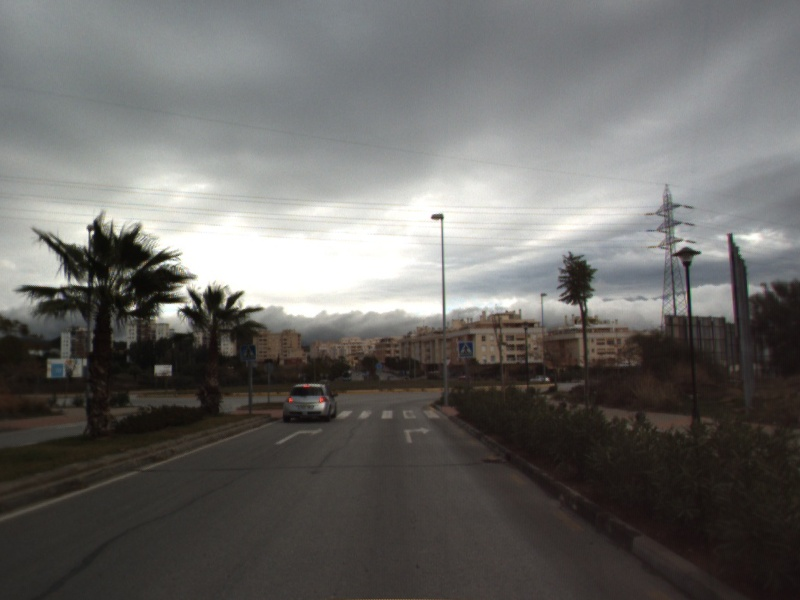RIGHT: (272, 426, 325, 447), (401, 424, 432, 445)
